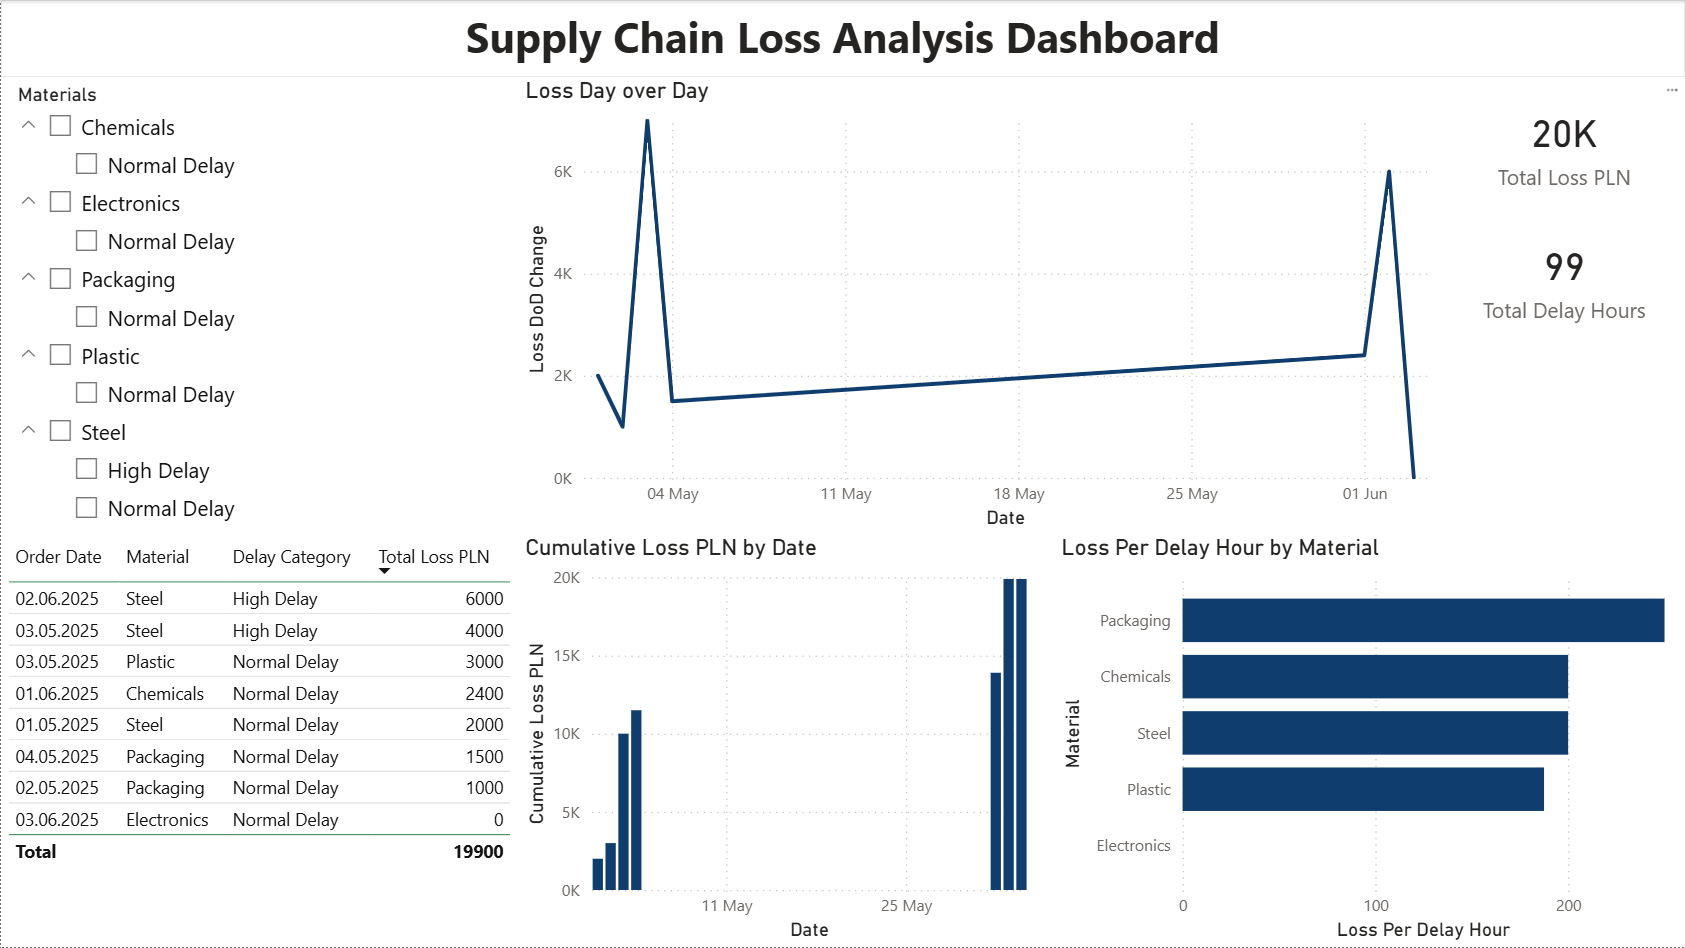

The page's visual inventory and layout, read from the dashboard file:
{"tool":"powerbi","page":{"name":"Page 1","canvas":[1280,720],"ordinal":0},"visuals":[{"type":"card","fields":{"Values":["Clean_data.Total Delay Hours"]},"box":[1097,162.4,183,96.6],"z":0},{"type":"card","fields":{"Values":["Clean_data.Total Loss PLN"]},"box":[1097,58.6,183,103.8],"z":1000},{"type":"lineChart","title":"Loss Day over Day","fields":{"Y":["Clean_data.Loss DoD Change"],"Category":["'Date Table'.Date"]},"box":[393.7,58.6,703.4,347.7],"z":2000},{"type":"columnChart","title":"Cumulative Loss PLN by Date","fields":{"Category":["'Date Table'.Date"],"Y":["Clean_data.Cumulative Loss PLN"]},"box":[393.7,406.3,407.9,313.7],"z":3000},{"type":"barChart","title":"Loss Per Delay Hour by Material","fields":{"Category":["Clean_data.material_code"],"Y":["Clean_data.Loss Per Delay Hour"]},"box":[801.6,406.3,478.4,313.7],"z":4000},{"type":"tableEx","fields":{"Values":["Clean_data.order_date","Clean_data.material_code","Clean_data.delay_category","Clean_data.Total Loss PLN"]},"box":[0,406.3,393.7,313.7],"z":5000},{"type":"slicer","fields":{"Values":["Clean_data.material_code","Clean_data.delay_category"]},"box":[0,58.6,393.7,347.7],"z":6000},{"type":"textbox","box":[0,0,1280,58.6],"z":7000}]}

Visuals, with their boxes in screenshot pixels (x1, y1, x2, y2), scaled from the page's 1280x720 canvas onto the 1685x948 screenshot:
card - Clean_data.Total Delay Hours: [left=1444, top=214, right=1684, bottom=341]
card - Clean_data.Total Loss PLN: [left=1444, top=77, right=1684, bottom=214]
"Loss Day over Day" lineChart: [left=518, top=77, right=1444, bottom=535]
"Cumulative Loss PLN by Date" columnChart: [left=518, top=535, right=1055, bottom=947]
"Loss Per Delay Hour by Material" barChart: [left=1055, top=535, right=1684, bottom=947]
tableEx - Clean_data.order_date x Clean_data.material_code: [left=0, top=535, right=518, bottom=947]
slicer - Clean_data.material_code x Clean_data.delay_category: [left=0, top=77, right=518, bottom=535]
textbox: [left=0, top=0, right=1684, bottom=77]
